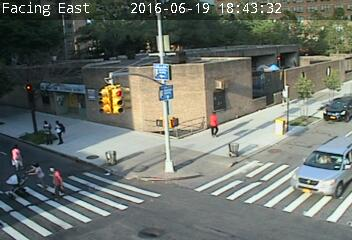neg: (160, 127, 184, 159), (163, 176, 187, 208), (144, 32, 166, 62), (226, 148, 247, 176), (128, 100, 149, 127), (46, 22, 65, 48), (111, 150, 130, 176), (63, 188, 82, 213), (180, 149, 198, 173), (26, 50, 44, 73), (266, 189, 283, 212), (94, 37, 110, 58), (272, 134, 287, 154), (299, 61, 314, 80), (252, 36, 265, 54), (69, 81, 82, 98), (200, 198, 213, 215), (132, 190, 144, 207), (314, 141, 325, 155), (208, 32, 218, 45), (102, 88, 111, 100)
pos: (41, 158, 71, 198), (201, 107, 227, 142), (21, 157, 47, 192), (35, 117, 56, 145), (47, 117, 67, 144), (6, 143, 24, 168)
